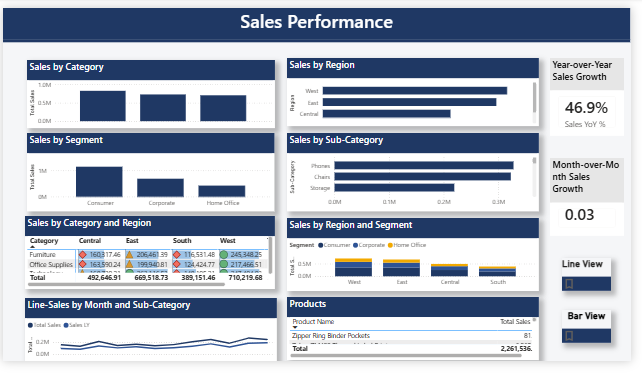

The page's visual inventory and layout, read from the dashboard file:
{"tool":"powerbi","page":{"name":"Sales Performance","canvas":[1280,720],"ordinal":1},"visuals":[{"type":"clusteredColumnChart","title":"Sales by Category","fields":{"Category":["Dim_Product.Category"],"Y":["_Measures.Total Sales"]},"box":[49,106.1,506.1,138.8],"z":0},{"type":"clusteredBarChart","title":"Sales by Region","fields":{"Category":["Dim_Geography.Region"],"Y":["_Measures.Total Sales"]},"box":[579.6,102.6,514.3,138.8],"z":1000},{"type":"clusteredColumnChart","title":"Sales by Segment","fields":{"Category":["Dim_Customer.Segment"],"Y":["_Measures.Total Sales"]},"box":[49.6,254.8,505,160],"z":2000},{"type":"clusteredBarChart","title":"Sales by Sub-Category","fields":{"Category":["Dim_Product.Sub-Category"],"Y":["_Measures.Total Sales"]},"box":[579.6,254.9,514,159.6],"z":3000},{"type":"pivotTable","title":"Sales by Category and Region","fields":{"Rows":["Dim_Product.Category"],"Columns":["Dim_Geography.Region"],"Values":["_Measures.Total Sales"]},"box":[44.9,424.7,510.2,149],"z":4000},{"type":"columnChart","title":"Sales by Region and Segment","fields":{"Category":["Dim_Geography.Region"],"Y":["_Measures.Total Sales"],"Series":["Dim_Customer.Segment"]},"box":[579.6,428,514.3,149],"z":5000},{"type":"lineChart","title":"Line-Sales by Month and Sub-Category","fields":{"Category":["Dim_Date.Month"],"Y":["_Measures.Total Sales","_Measures.Sales LY"]},"box":[44.9,591.8,514.3,128.6],"z":7000},{"type":"actionButton","title":"Bar View","box":[1140.8,616.3,100,67.3],"z":8000},{"type":"actionButton","title":"Line View","box":[1140.8,510.2,100,67.3],"z":9000},{"type":"shape","title":"Sales  Performance","box":[0,0,1280,70],"z":10000},{"type":"tableEx","title":"Products","fields":{"Values":["Dim_Product.Product Name","_Measures.Total Sales"]},"box":[579.6,590.5,514.3,128.6],"z":11000},{"type":"cardVisual","title":"Year-over-Year Sales Growth","fields":{"Data":["_Measures.Sales YoY %"]},"box":[1116.3,102,151,159.2],"z":12000},{"type":"cardVisual","title":"Month-over-Month Sales Growth","fields":{"Data":["_Measures.Sales MoM %"]},"box":[1116.3,306.1,151,159.2],"z":12001}]}

Visuals, with their boxes in screenshot pixels (x1, y1, x2, y2):
"Sales by Category" clusteredColumnChart: bbox(24, 58, 275, 126)
"Sales by Region" clusteredBarChart: bbox(287, 56, 541, 124)
"Sales by Segment" clusteredColumnChart: bbox(25, 131, 274, 210)
"Sales by Sub-Category" clusteredBarChart: bbox(287, 131, 541, 210)
"Sales by Category and Region" pivotTable: bbox(22, 215, 275, 289)
"Sales by Region and Segment" columnChart: bbox(287, 217, 541, 290)
"Line-Sales by Month and Sub-Category" lineChart: bbox(22, 298, 277, 361)
"Bar View" actionButton: bbox(564, 310, 614, 343)
"Line View" actionButton: bbox(564, 257, 614, 291)
"Sales  Performance" shape: bbox(0, 5, 633, 40)
"Products" tableEx: bbox(287, 297, 541, 361)
"Year-over-Year Sales Growth" cardVisual: bbox(552, 55, 627, 134)
"Month-over-Month Sales Growth" cardVisual: bbox(552, 156, 627, 235)
